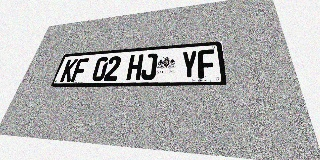0: (91, 57, 109, 81)
2: (103, 56, 122, 81)
F: (198, 49, 216, 79), (70, 58, 89, 82)
H: (126, 54, 144, 80)
J: (140, 53, 158, 80)
K: (59, 59, 78, 82)
Y: (181, 50, 198, 79)
